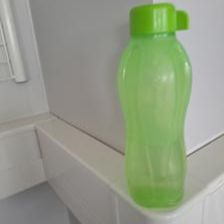bottle: (115, 1, 197, 211)
